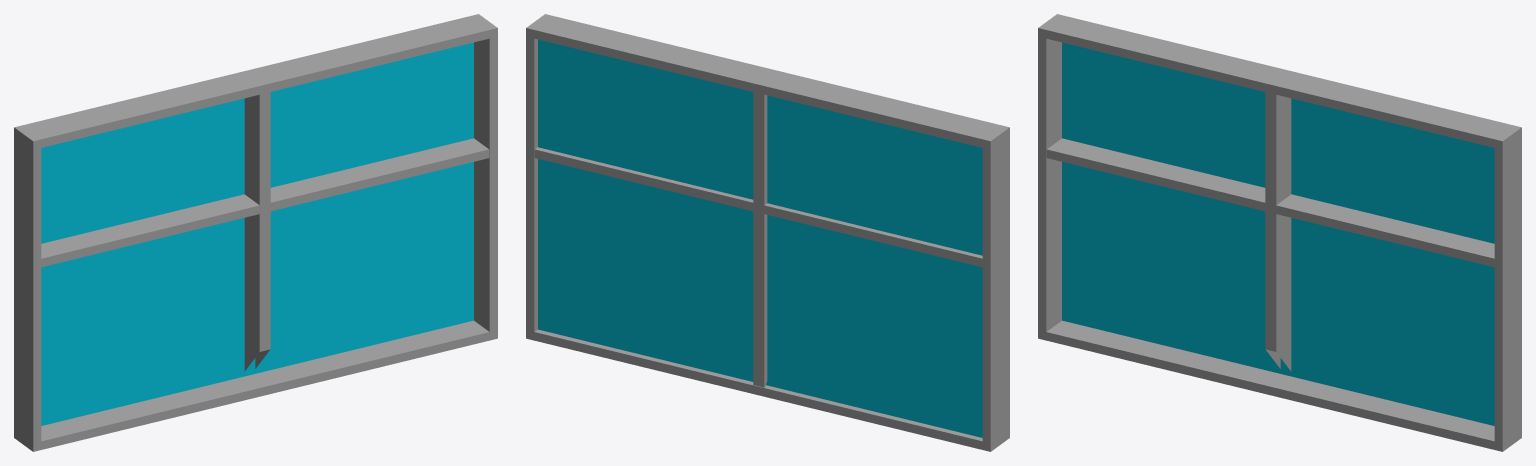
The model's file is SM_Window.fbx.
The picture shows the model from 3 angles, left to right: view 1: azimuth 30°, elevation 25°; view 2: azimuth 150°, elevation 25°; view 3: azimuth 330°, elevation 25°; orthographic projection.
Parts seen in each view (by area): view 1: Window_2x12; view 2: Window_2x12; view 3: Window_2x12.
Boxes of the visible parts, left/top/right/bottom form: Window_2x12: left=14, top=14, right=497, bottom=451; Window_2x12: left=526, top=14, right=1009, bottom=451; Window_2x12: left=1038, top=14, right=1521, bottom=451.
Size of the model in its own units: 177 by 113 by 12.59.
